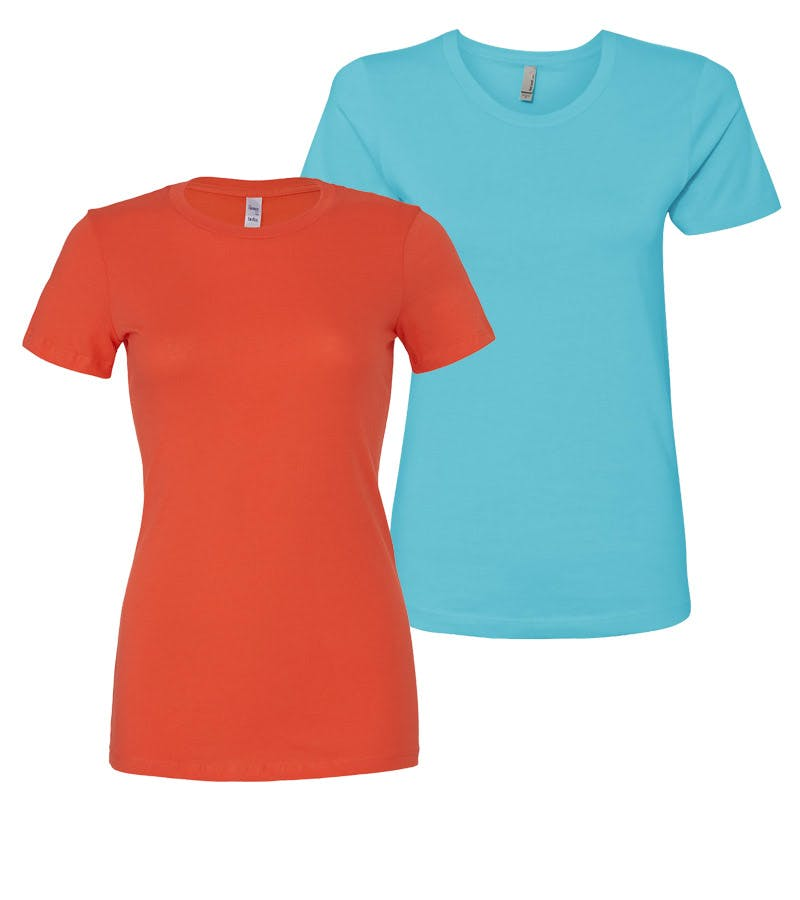blouse: (297, 33, 796, 653), (25, 177, 491, 776)
